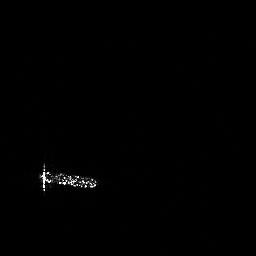ship: (35, 159, 101, 195)
